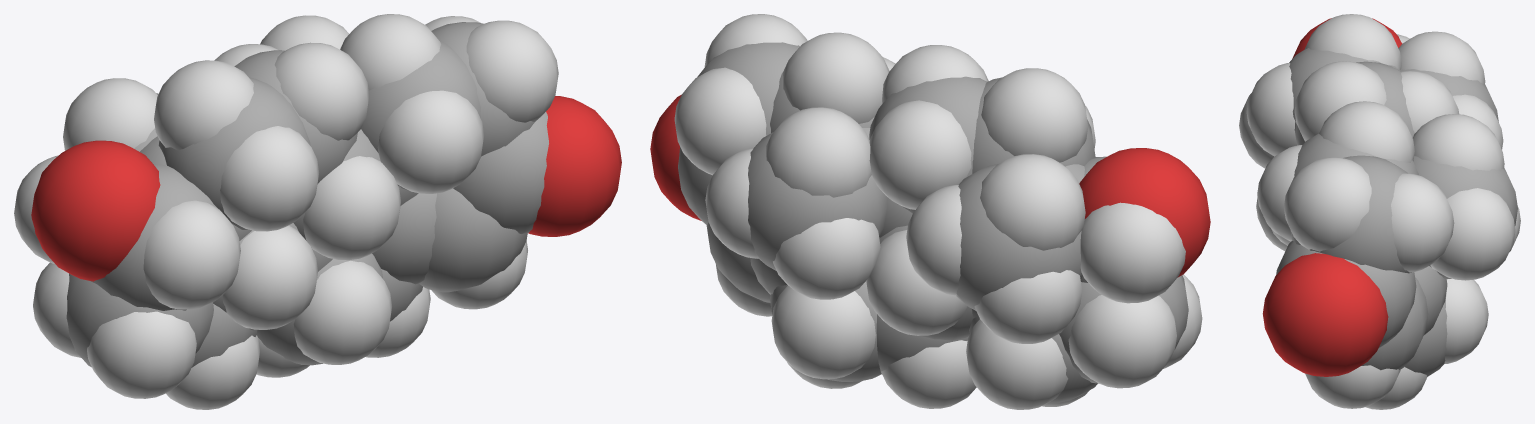
Rendered from testosterone-cpk.glb.
The picture shows the model from 3 angles, left to right: view 1: azimuth 30°, elevation 25°; view 2: azimuth 150°, elevation 25°; view 3: azimuth 270°, elevation 25°; orthographic projection. The views are drawn at different scales.
Visible parts, largest first — view 1: testosterone-cpk; view 2: testosterone-cpk; view 3: testosterone-cpk.
Part boxes in pixels (x1,y1,x2,y2): testosterone-cpk: (14, 14, 621, 409); testosterone-cpk: (650, 14, 1210, 409); testosterone-cpk: (1239, 14, 1520, 409).
Bounding box in the file's own units: 13.8 × 8.13 × 6.75.
